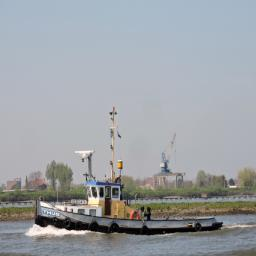tugboat: (34, 149, 226, 238)
